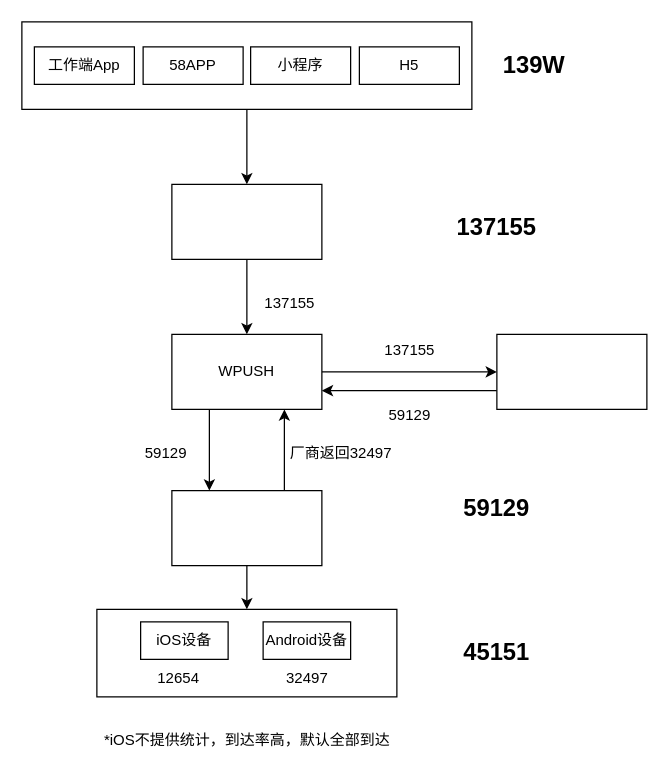
The diagram is 669 pixels wide and 781 high, and some of its shapes have lost their labels. Here are the shapes that lost their labels. From the top down, the centre of each, then its label:
At point 246,221: "工作端".
At point 571,371: "厂商push绑定关系查询".
At point 246,527: "厂商".
